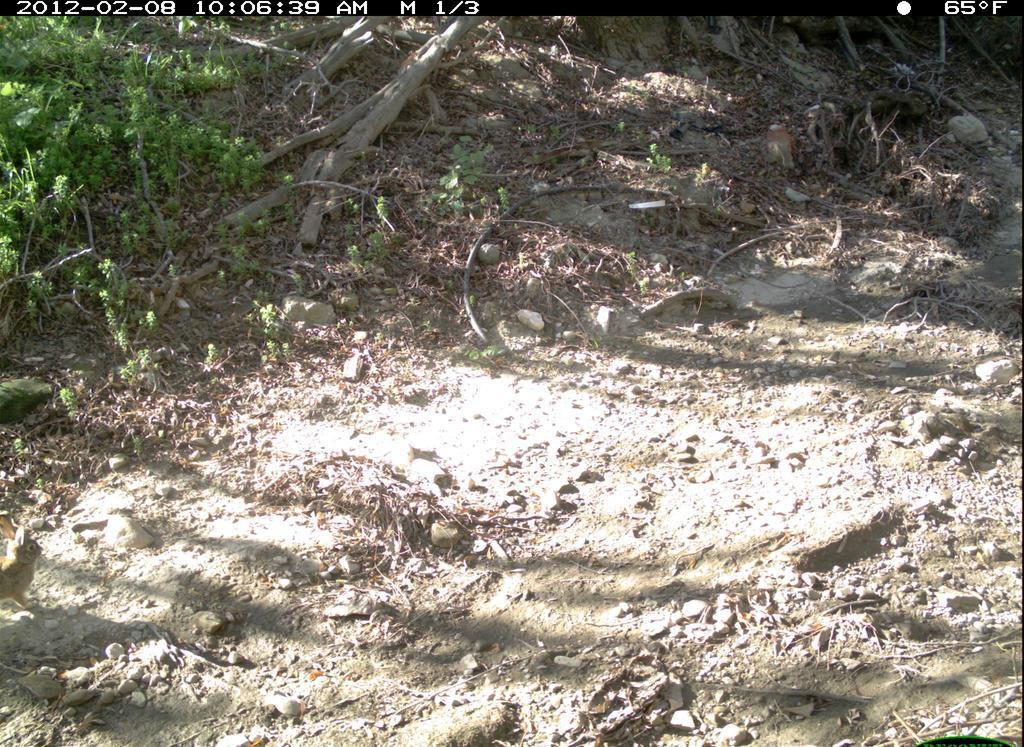rabbit: (1, 509, 50, 619)
